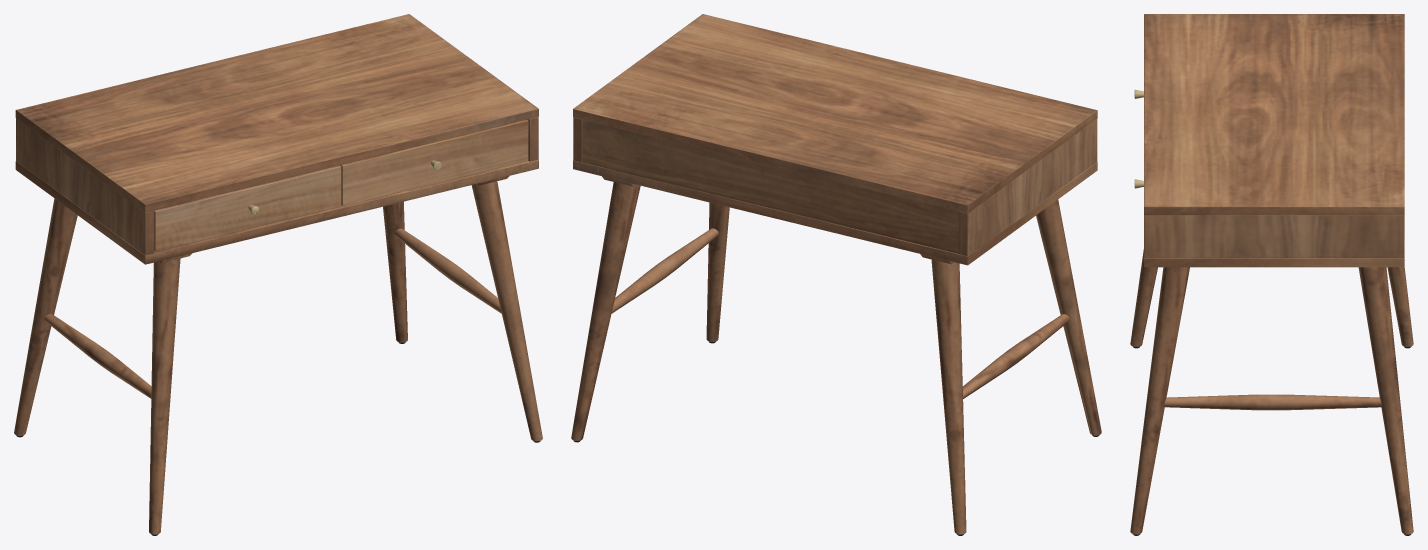
The picture shows the model from 3 angles, left to right: view 1: azimuth 30°, elevation 25°; view 2: azimuth 150°, elevation 25°; view 3: azimuth 270°, elevation 25°; orthographic projection.
Parts seen in each view (by area): view 1: RootNode; view 2: RootNode; view 3: RootNode.
Boxes of the visible parts, x1,y1,x2,y2 form: RootNode: (14, 14, 542, 535); RootNode: (571, 14, 1101, 535); RootNode: (1130, 14, 1413, 535).
Size of the model in its own units: 0.9521 by 0.76 by 0.5898.
1 material, 1 textured.
